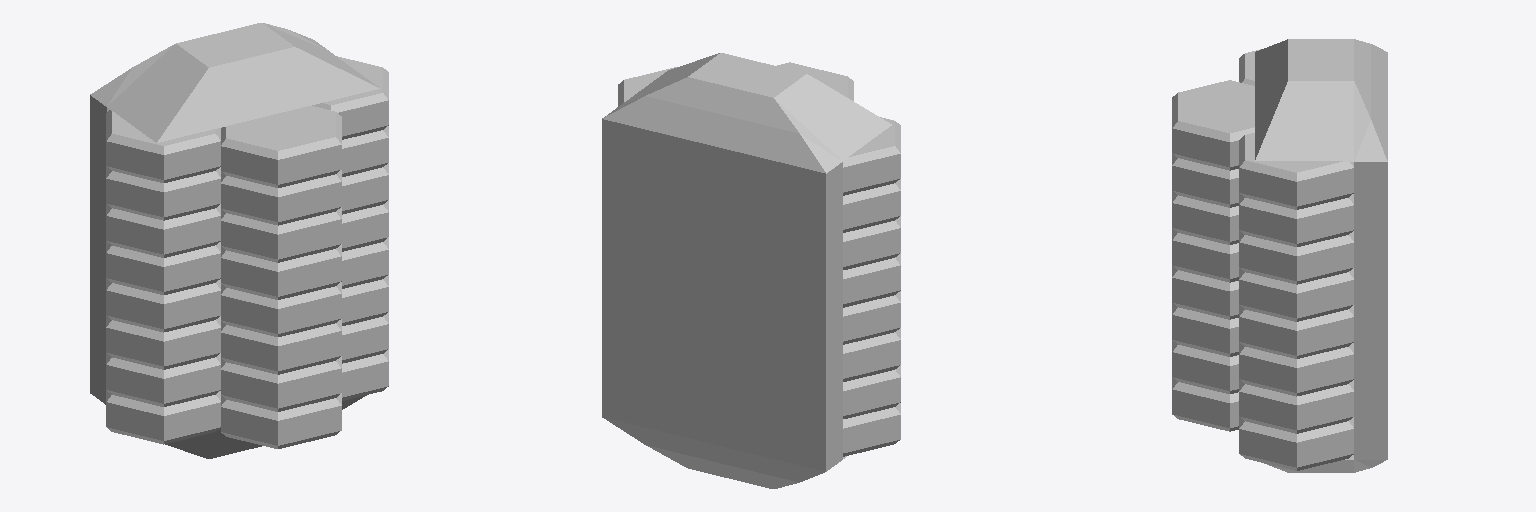
The model's file is expansion_cargo_bay_e.obj.
The picture shows the model from 3 angles: view 1: azimuth 30°, elevation 25°; view 2: azimuth 150°, elevation 25°; view 3: azimuth 270°, elevation 25°; orthographic projection.
Visible parts, largest first — view 1: Cube.002; view 2: Cube.002; view 3: Cube.002.
Boxes of the visible parts, <box> form: Cube.002: <box>90,23,388,458</box>; Cube.002: <box>602,53,900,488</box>; Cube.002: <box>1172,39,1387,472</box>.
Size of the model in its own units: 1.96 by 2.6 by 1.3.